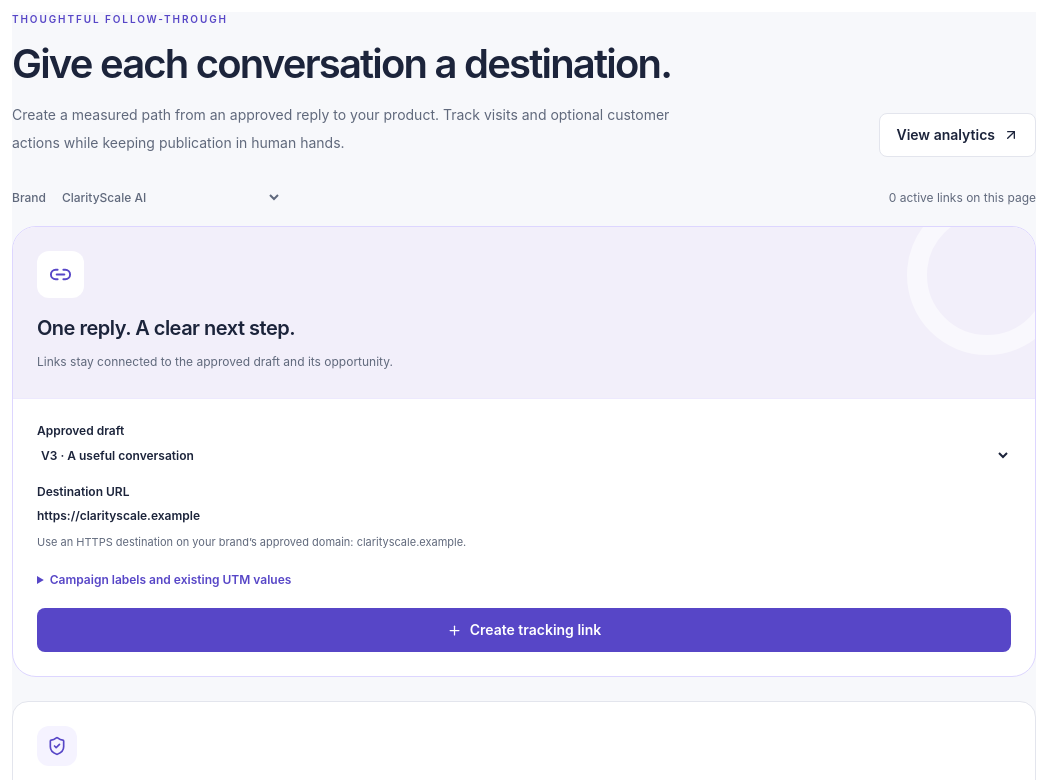
Scenario: approved-draft tracking links › retains the form after a server refusal and does not invent a link
Click the button "Create tracking link" at (524, 630), box [37,608,1011,652]
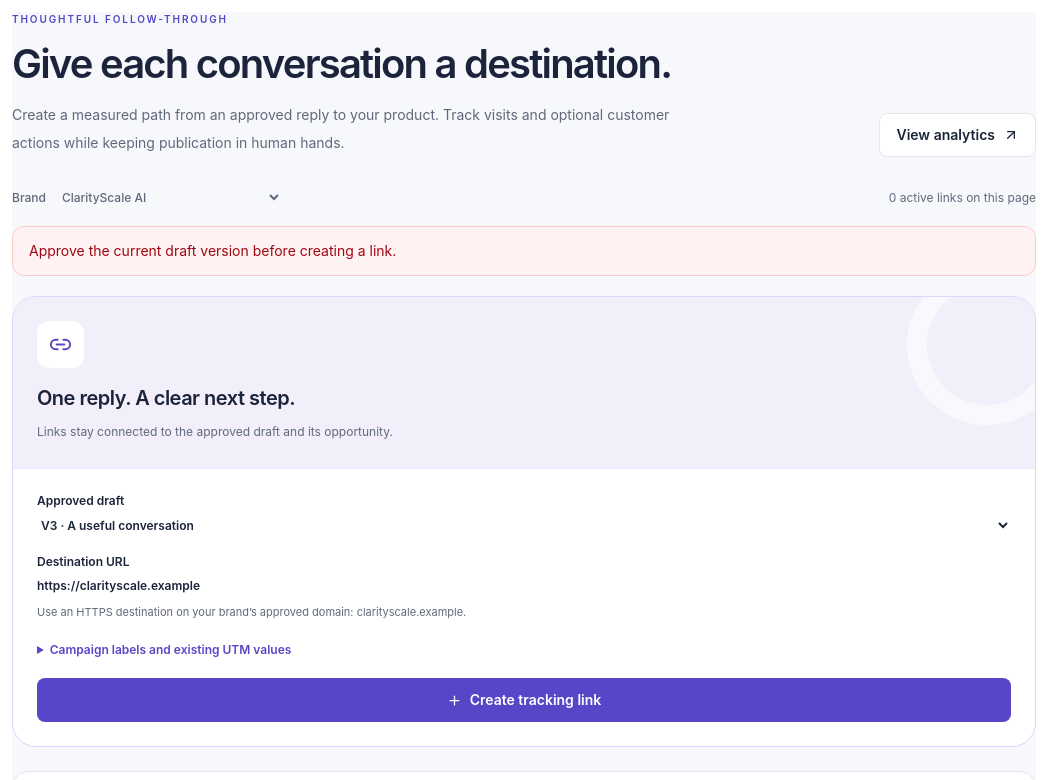
Expected: the field labelled "Destination URL" holds "https://clarityscale.example", [37,578,1011,594]
Expected: the text "Approve the current draft version before creating a link." is shown, [12,226,1036,276]
